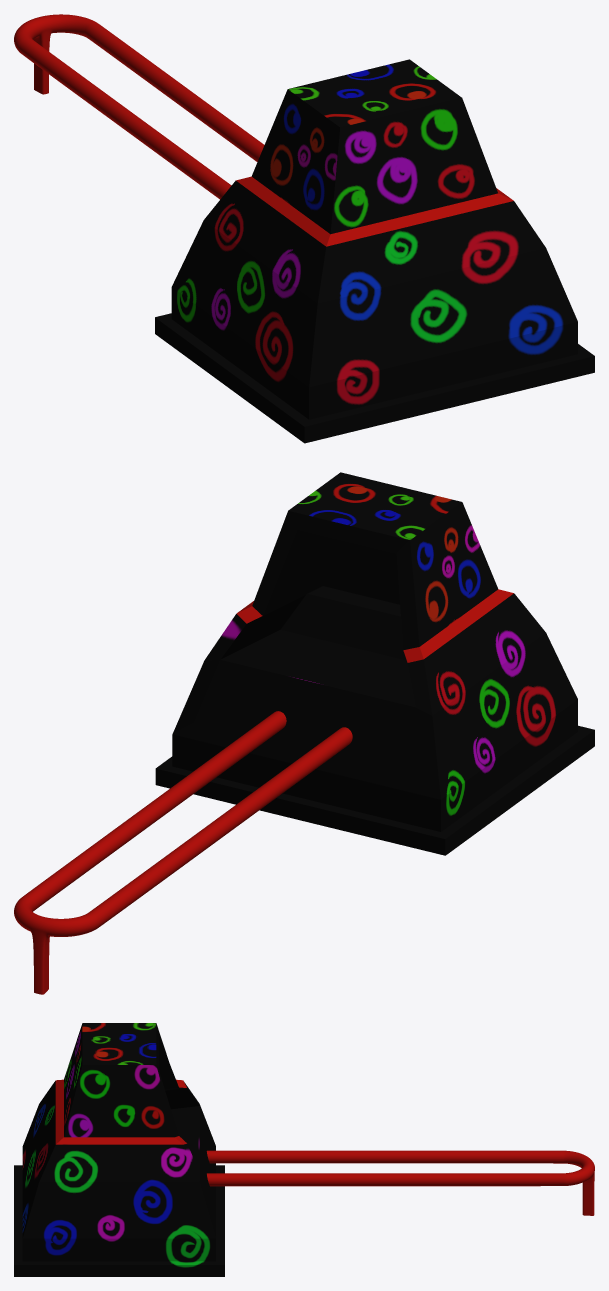
The model's file is Ball_Machine.fbx.
3 views of the same model, one above another, from view 1: azimuth 30°, elevation 25°; view 2: azimuth 150°, elevation 25°; view 3: azimuth 270°, elevation 25° (orthographic). The views are drawn at different scales.
Visible parts, largest first — view 1: Cube.036, Cube.059; view 2: Cube.036, Cube.059; view 3: Cube.036, Cube.059.
Boxes of the visible parts, x1=… form: Cube.036: x1=155, y1=59, x2=594, y2=443; Cube.059: x1=14, y1=14, x2=264, y2=199; Cube.036: x1=155, y1=472, x2=594, y2=855; Cube.059: x1=14, y1=711, x2=352, y2=994; Cube.036: x1=14, y1=1023, x2=224, y2=1276; Cube.059: x1=206, y1=1150, x2=594, y2=1215.
Bounding box in the file's own units: 1140 × 975 × 2807.
2 materials, 2 textured.
